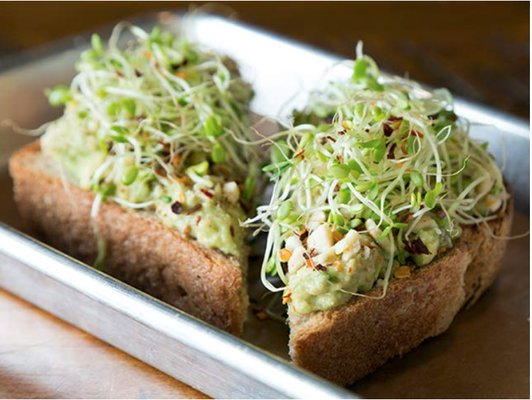soup: (254, 51, 517, 388), (7, 21, 274, 333)
